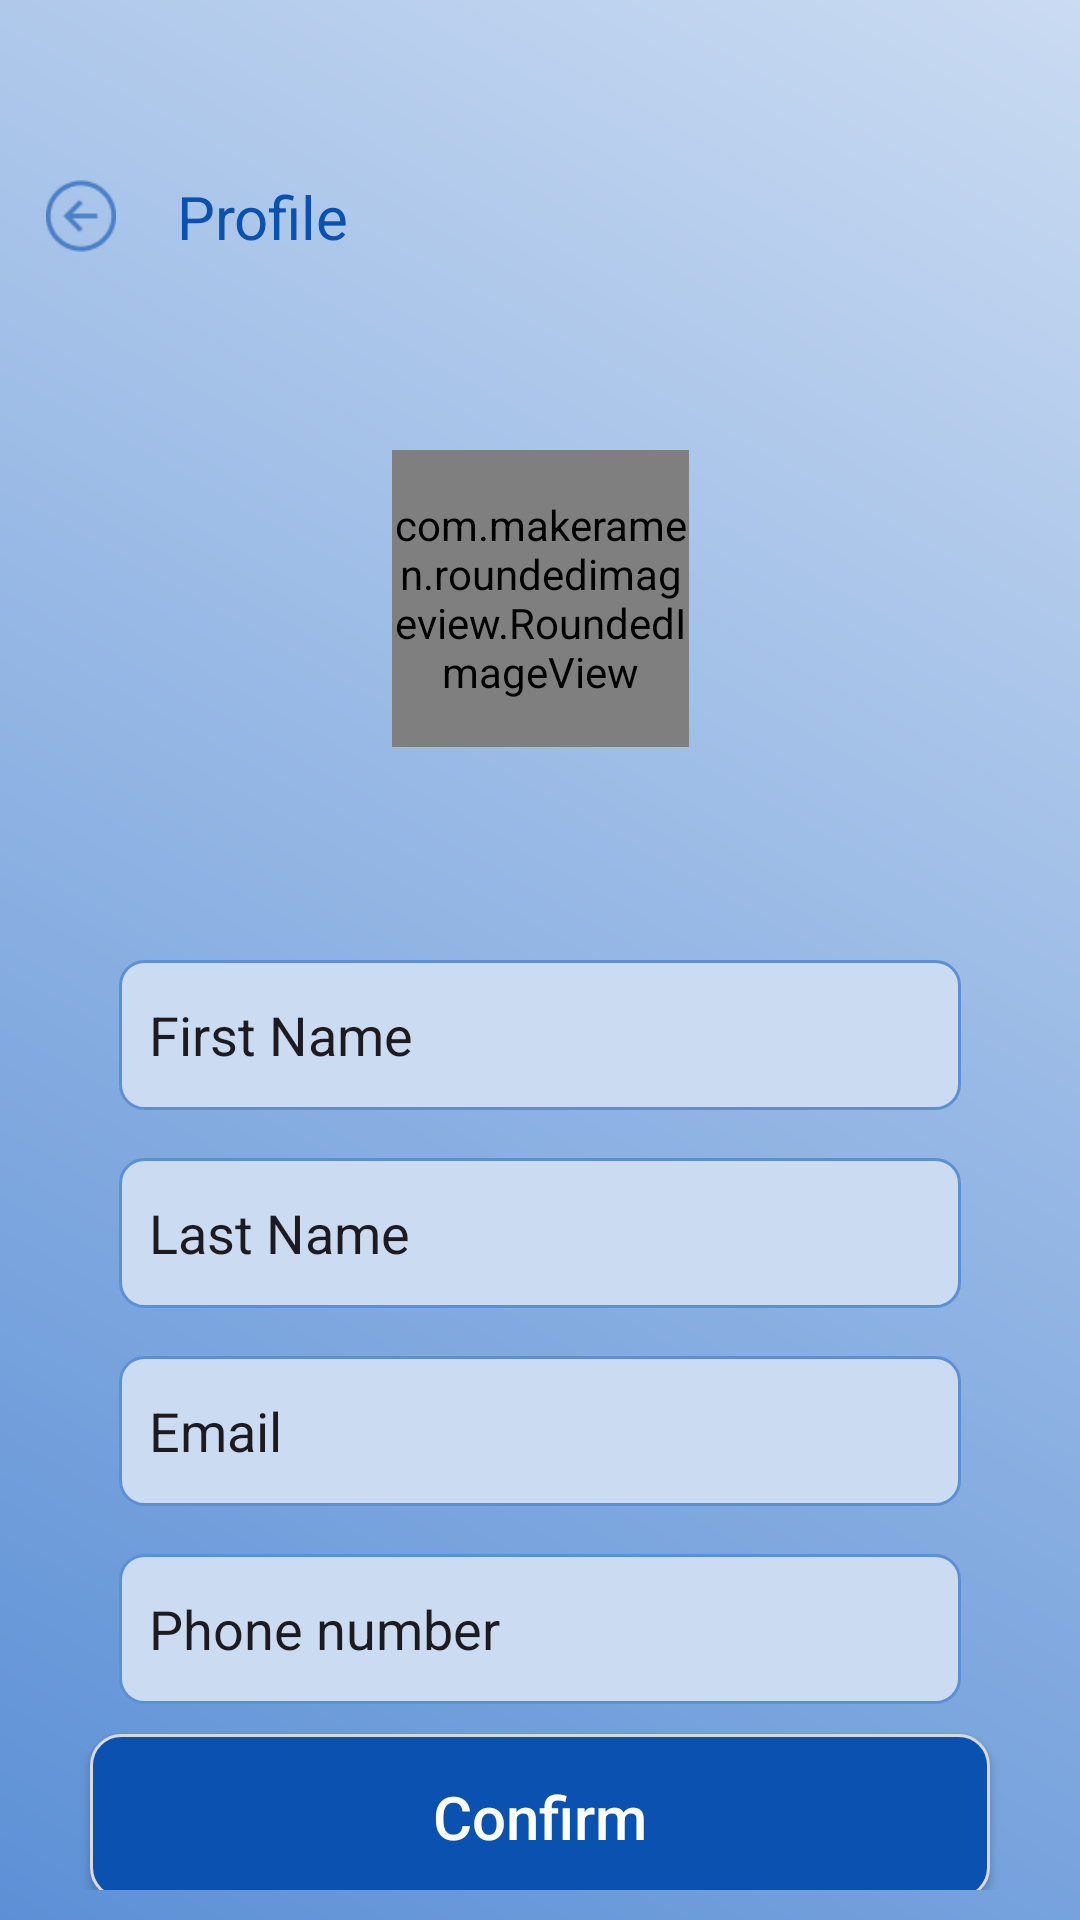

Point at icon controls on the screen. Image size 1080 x 1920, points as (x,y).
back: (81,216)
